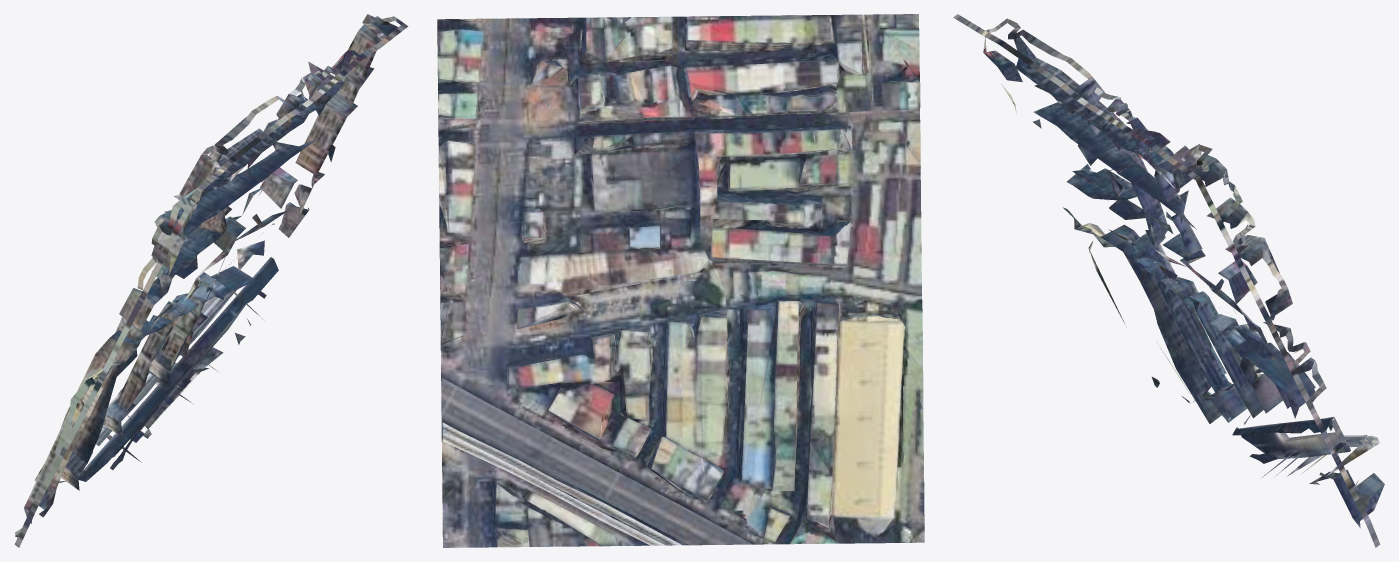
3 views of the same model, side by side, from view 1: azimuth 30°, elevation 25°; view 2: azimuth 150°, elevation 25°; view 3: azimuth 270°, elevation 25° (orthographic). The views are drawn at different scales.
Bounding box in the file's own units: 305 × 290 × 261.
Materials: 1 (1 with a texture image).
